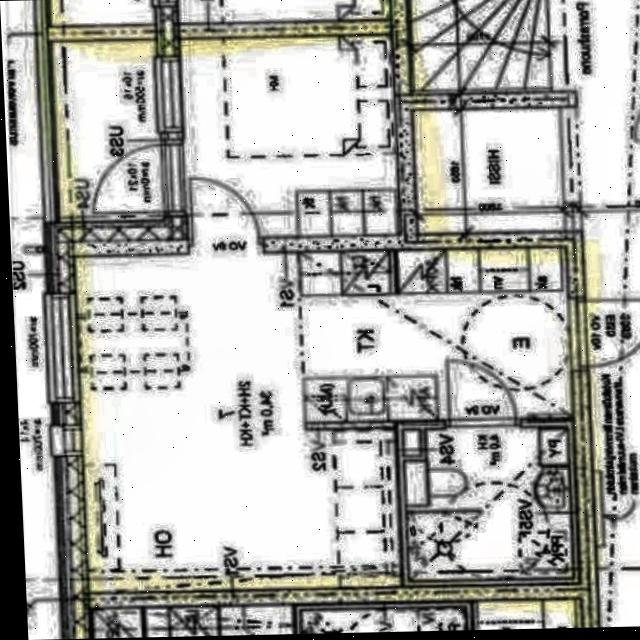room: (179, 33, 398, 239), (402, 427, 573, 581), (52, 36, 164, 224)
